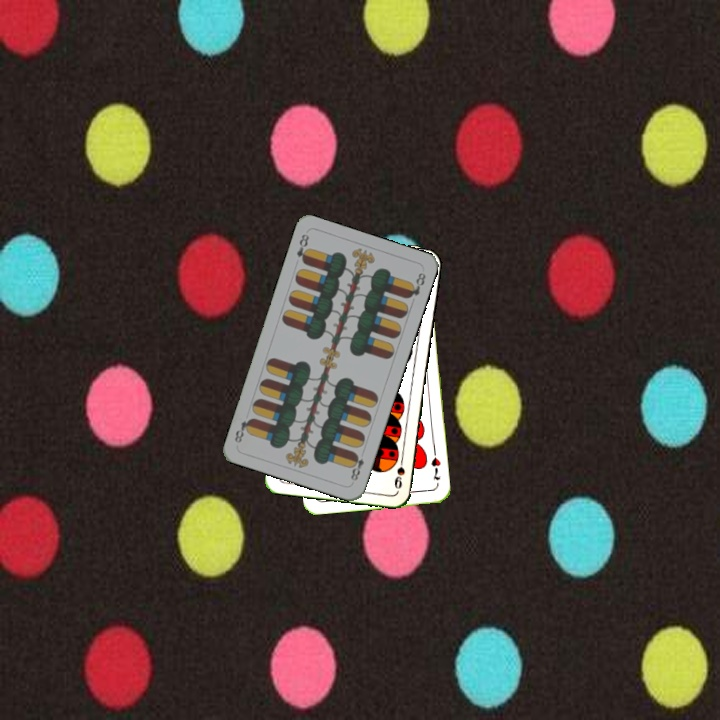E8: (292, 230, 312, 267), (346, 449, 367, 483)
H7: (427, 447, 443, 483)
S9: (390, 452, 407, 491)
